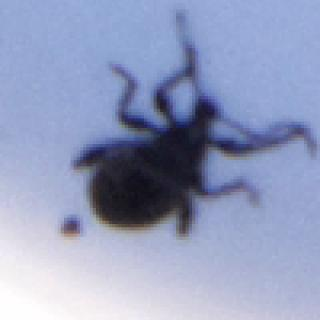bvw: (71, 8, 320, 238)
